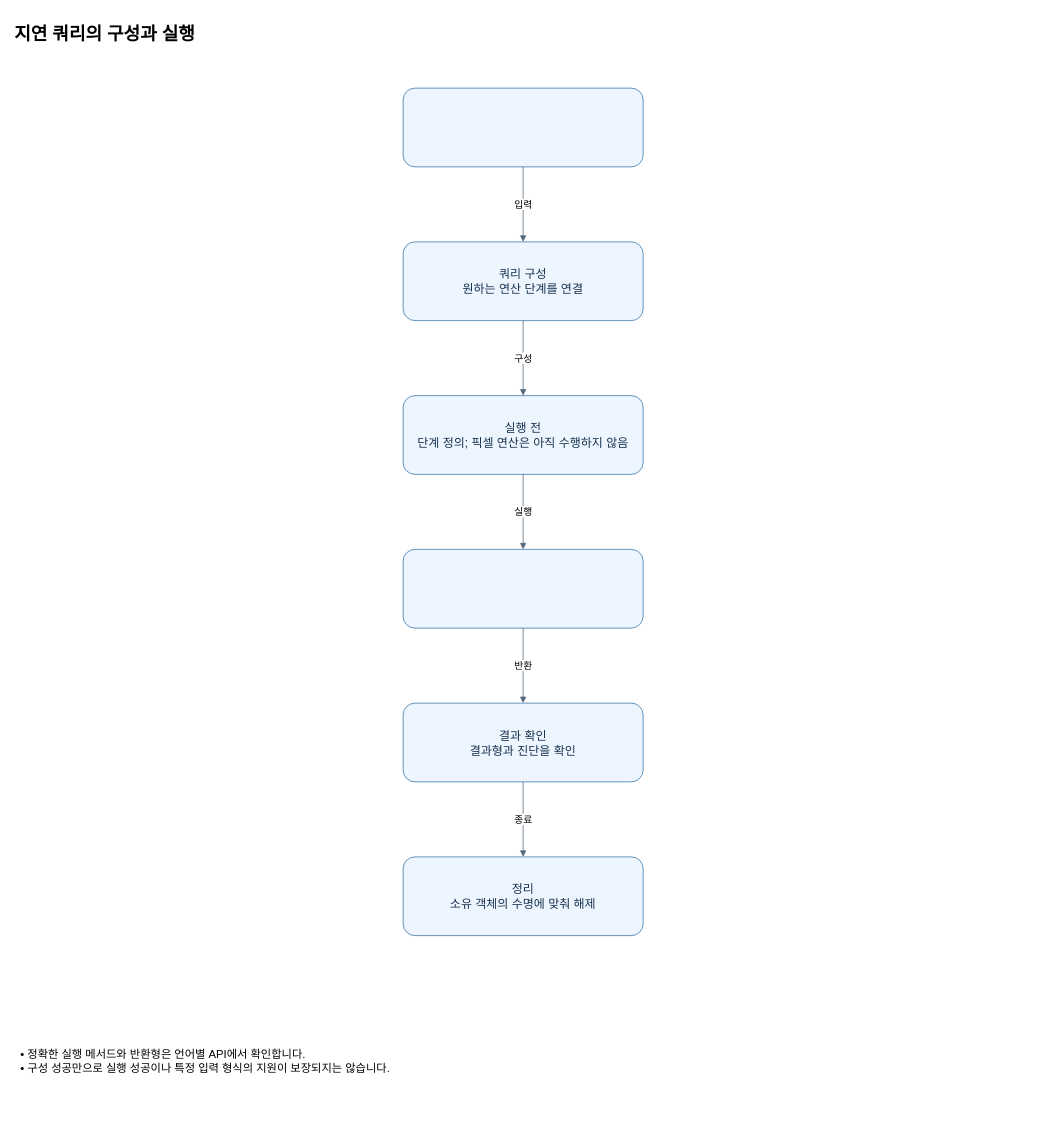
Image size: 1046x1139. Some labels were removed from this diagram. The centre of each missing label's shape, as x and y in pixels:
"명시적 실행 선택한 terminal 실행" belongs at point (522, 588).
"입력 이미지 형식과 크기를 확인" belongs at point (522, 127).
